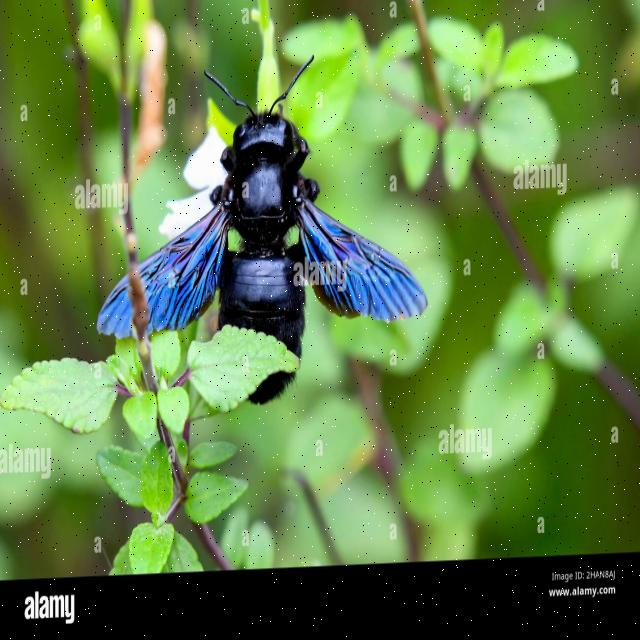Xylocopa: (80, 45, 442, 430)
